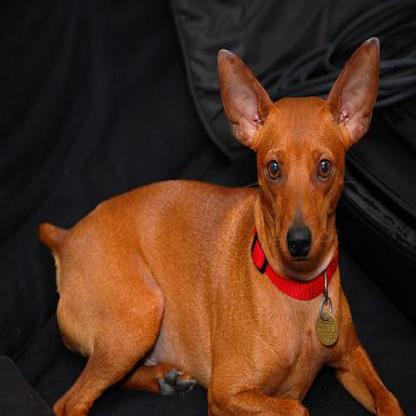miniature_pinscher: (35, 32, 403, 414)
